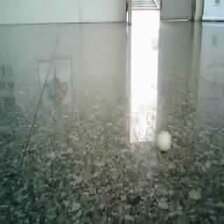w: (156, 130, 173, 152)
